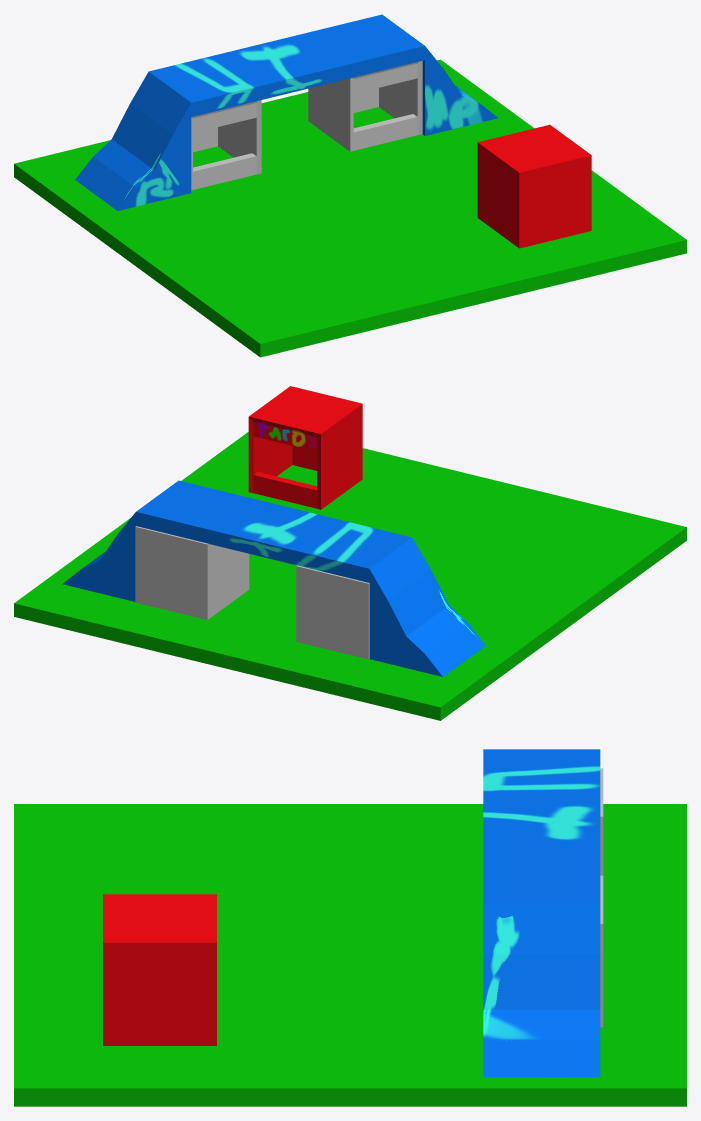
File: area.obj
3 views of the same model, one above another, from view 1: azimuth 30°, elevation 25°; view 2: azimuth 150°, elevation 25°; view 3: azimuth 270°, elevation 25° (orthographic). The views are drawn at different scales.
Parts seen in each view (by area): view 1: Cube, Cube.001, Cube.002, Cube.003, Cube.004; view 2: Cube, Cube.001, Cube.002, Cube.003, Cube.004; view 3: Cube, Cube.001, Cube.002, Cube.003.
Part boxes in pixels (bbox=[...]): Cube: bbox=[14, 59, 686, 357]; Cube.001: bbox=[75, 14, 498, 210]; Cube.002: bbox=[477, 124, 591, 248]; Cube.003: bbox=[308, 61, 422, 151]; Cube.004: bbox=[191, 100, 261, 190]; Cube: bbox=[14, 432, 686, 720]; Cube.001: bbox=[62, 480, 485, 676]; Cube.002: bbox=[248, 386, 362, 509]; Cube.003: bbox=[135, 526, 249, 619]; Cube.004: bbox=[296, 565, 369, 659]; Cube: bbox=[14, 804, 686, 1106]; Cube.001: bbox=[483, 749, 600, 1077]; Cube.002: bbox=[103, 894, 216, 1045]; Cube.003: bbox=[600, 875, 603, 1027].
Bounding box in the file's own units: 66.17 × 15.39 × 66.17.
